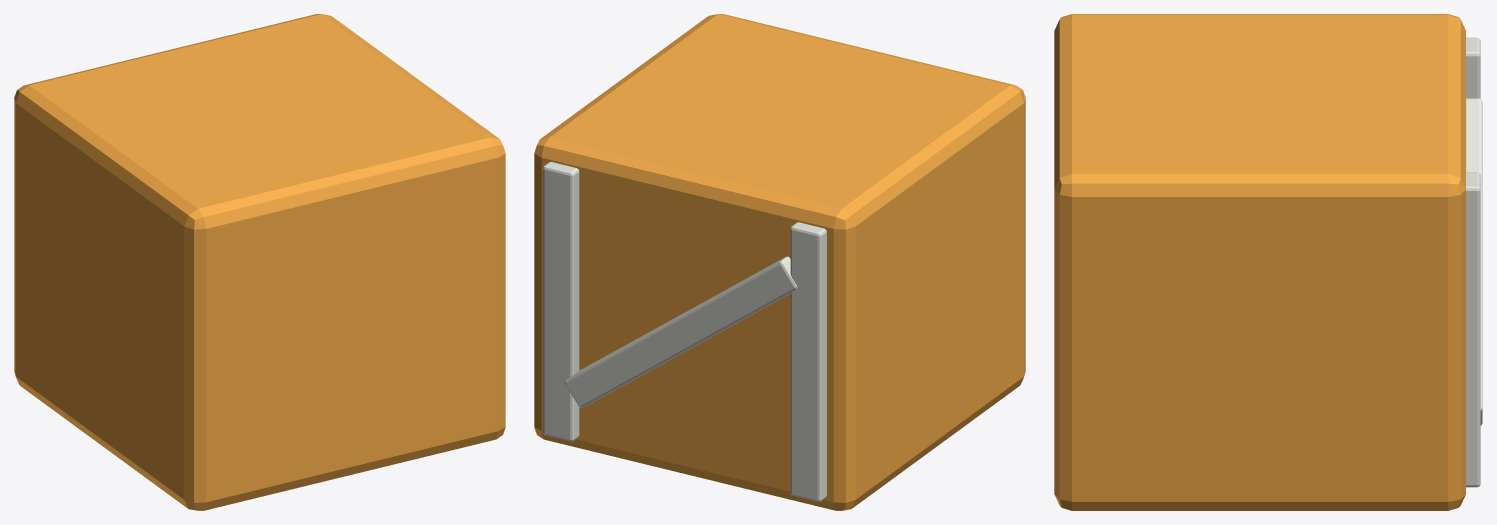
Rendered from crate.glb.
3 views of the same model, side by side, from view 1: azimuth 30°, elevation 25°; view 2: azimuth 150°, elevation 25°; view 3: azimuth 270°, elevation 25° (orthographic). The views are drawn at different scales.
Parts seen in each view (by area): view 1: crate; view 2: crate, Crate brace, Crate brace.001, Crate cross; view 3: crate, Crate brace.001, Crate cross, Crate brace.
Part boxes in pixels (bbox=[...]): crate: bbox=[14, 14, 505, 510]; crate: bbox=[534, 14, 1025, 510]; Crate brace: bbox=[790, 222, 826, 501]; Crate brace.001: bbox=[543, 162, 579, 441]; Crate cross: bbox=[564, 256, 797, 407]; crate: bbox=[1054, 14, 1465, 510]; Crate brace.001: bbox=[1466, 172, 1480, 487]; Crate cross: bbox=[1466, 98, 1482, 425]; Crate brace: bbox=[1466, 37, 1480, 98].
Size of the model in its own units: 0.93 by 0.84 by 0.9675.
